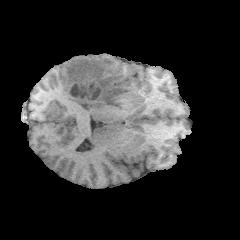glioma: (62, 56, 129, 109)
